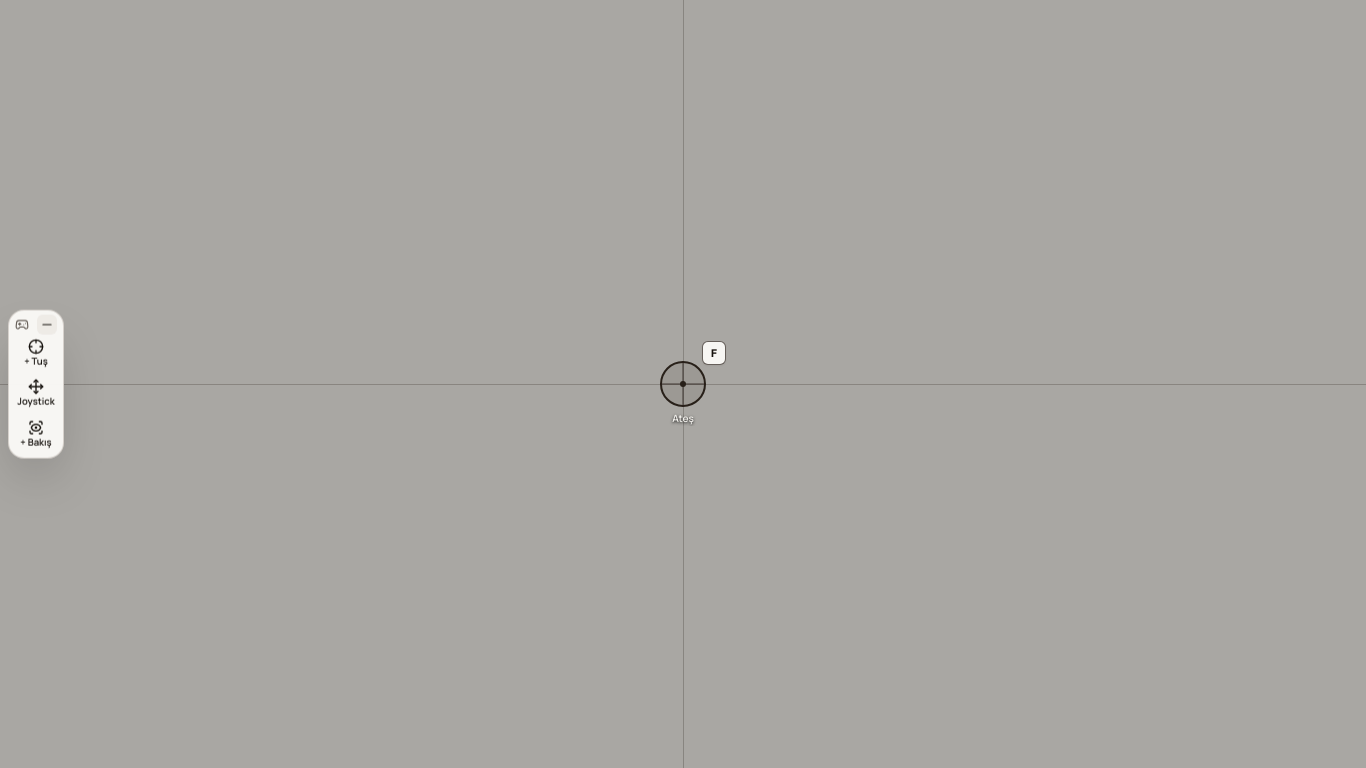
Test: Atölye — düğüm ekleme ve "bir tuşa bas" ataması › Ctrl / Esc / Meta atanamaz: uyarı gösterir ve dinlemeye devam eder; geçerli tuş sonra atanır
The width and height of the screenshot is (1366, 768).
Click the button with aria-label "Tuş ekle".
click(36, 354)  # box left=13, top=335, right=59, bottom=373
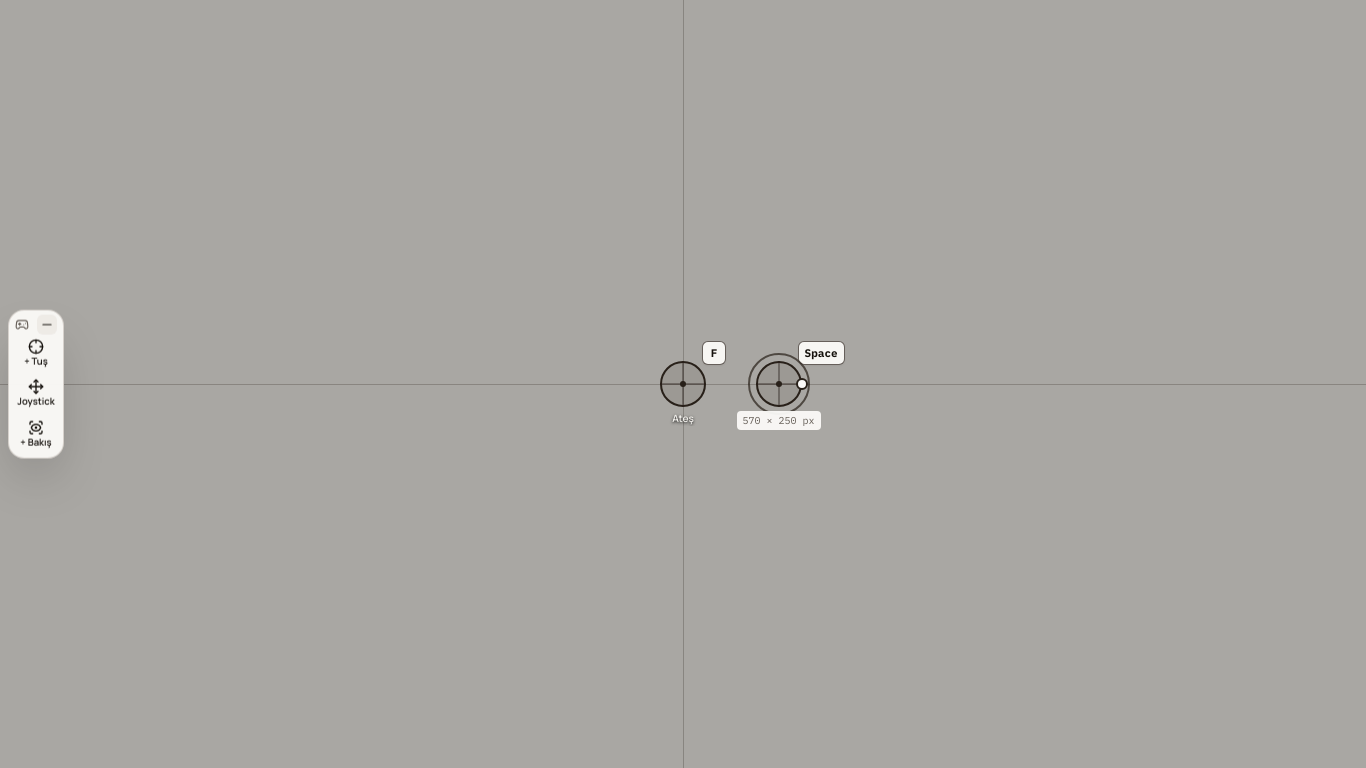
Press Control
expect the text "Space" is shown: met, box left=798, top=341, right=845, bottom=365
Press Shift
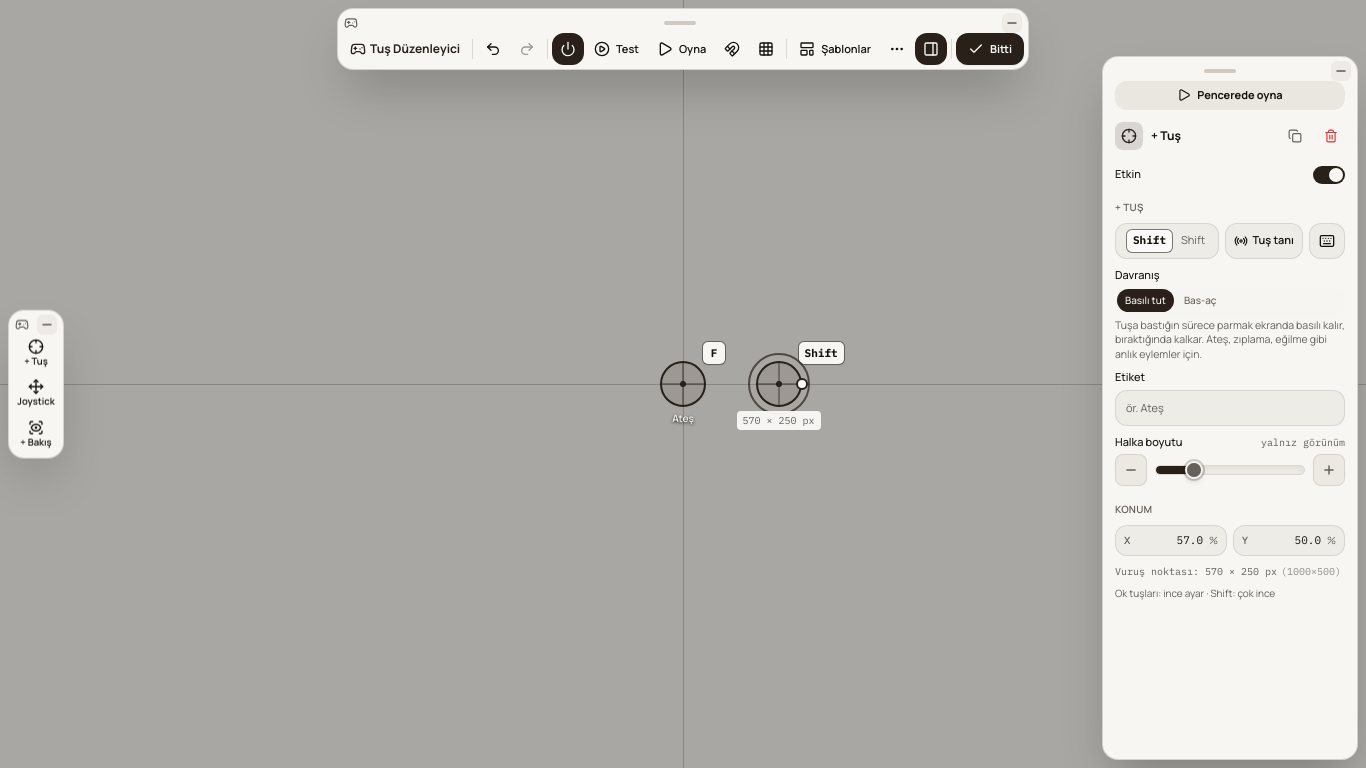
expect the 3rd text "Shift" is shown: met, box left=798, top=341, right=845, bottom=365
